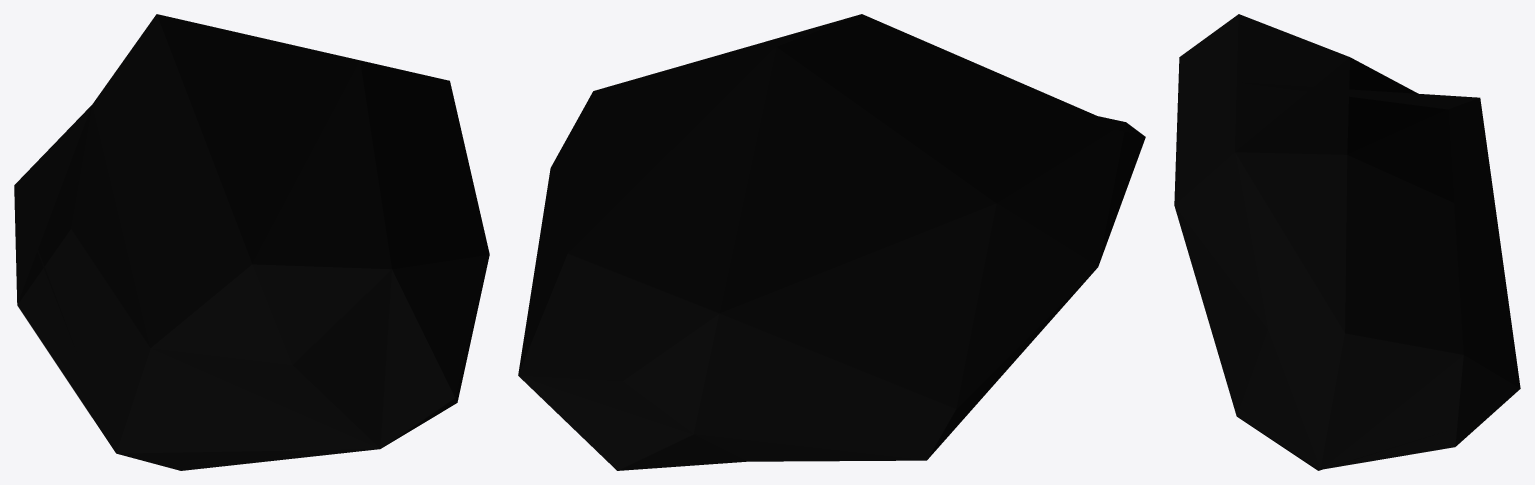
3 renders of one model, left to right at view 1: azimuth 30°, elevation 25°; view 2: azimuth 150°, elevation 25°; view 3: azimuth 270°, elevation 25°, orthographic. The views are drawn at different scales.
Size of the model in its own units: 0.354 by 0.2692 by 0.2489.
1 material, 1 textured.
